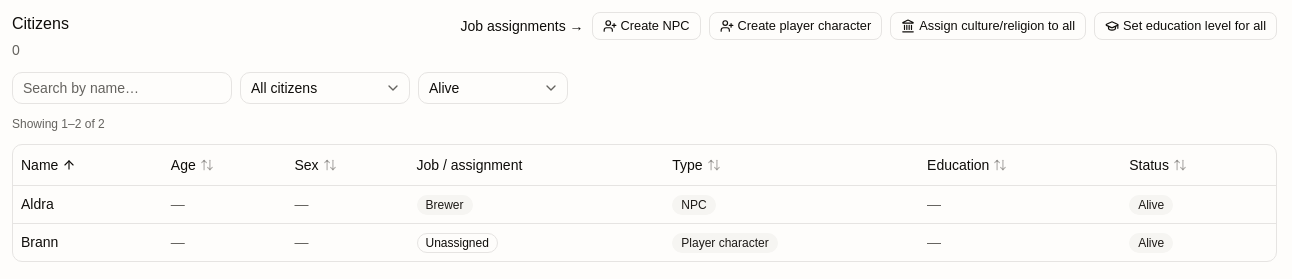
CitizensPanel › renders individual citizens for world admins, hiding the deceased by default
Expected: the text "Aldra" is shown, [21,194,54,214]
Expected: the text "Brann" is shown, [21,232,58,252]
Click the dropdown named "Filter by status".
click(493, 88)  # box [418,72,568,104]
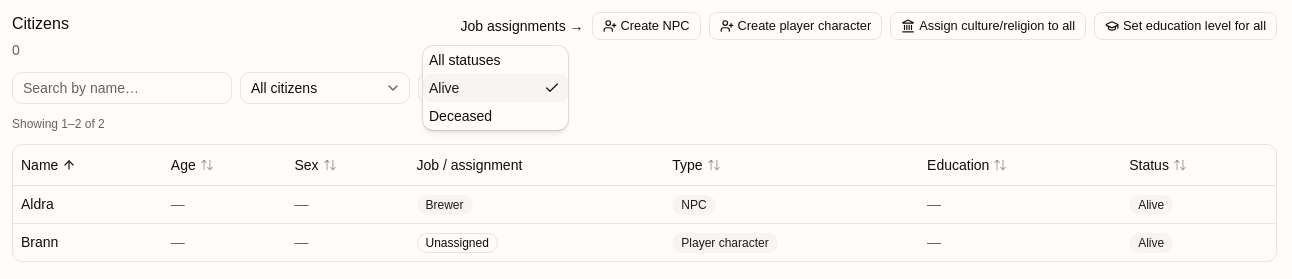
Click the option "Deceased".
click(460, 116)  # box [429,108,492,124]
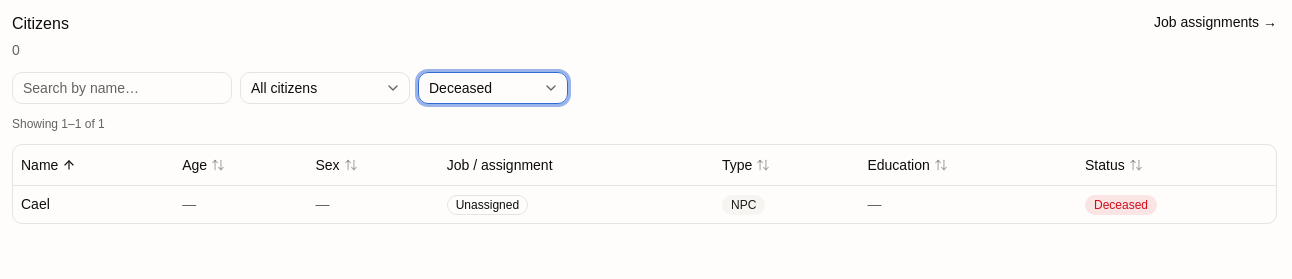
Now the text "Cael" is shown, box [21,194,50,214]
Now the text "Cael" shows "Deceased", box [1094,198,1148,212]
Now the link "Aldra" is gone
